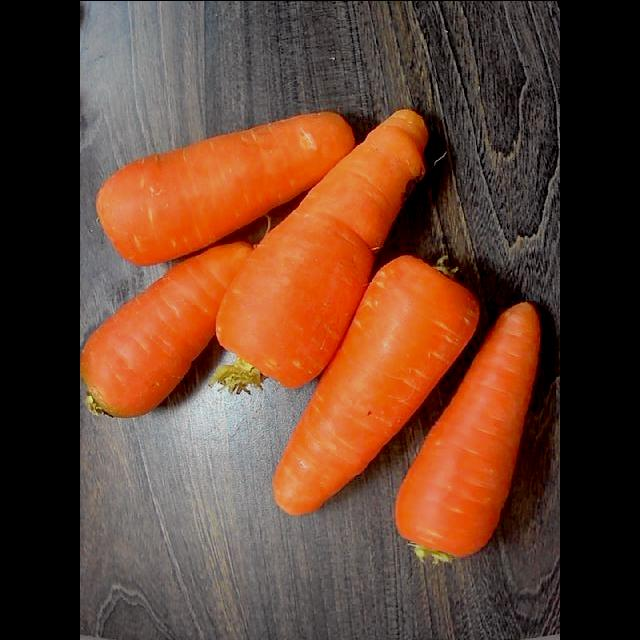zanahoria: (217, 110, 427, 387), (274, 255, 479, 514), (96, 112, 354, 264), (395, 302, 540, 564), (80, 241, 252, 416)
